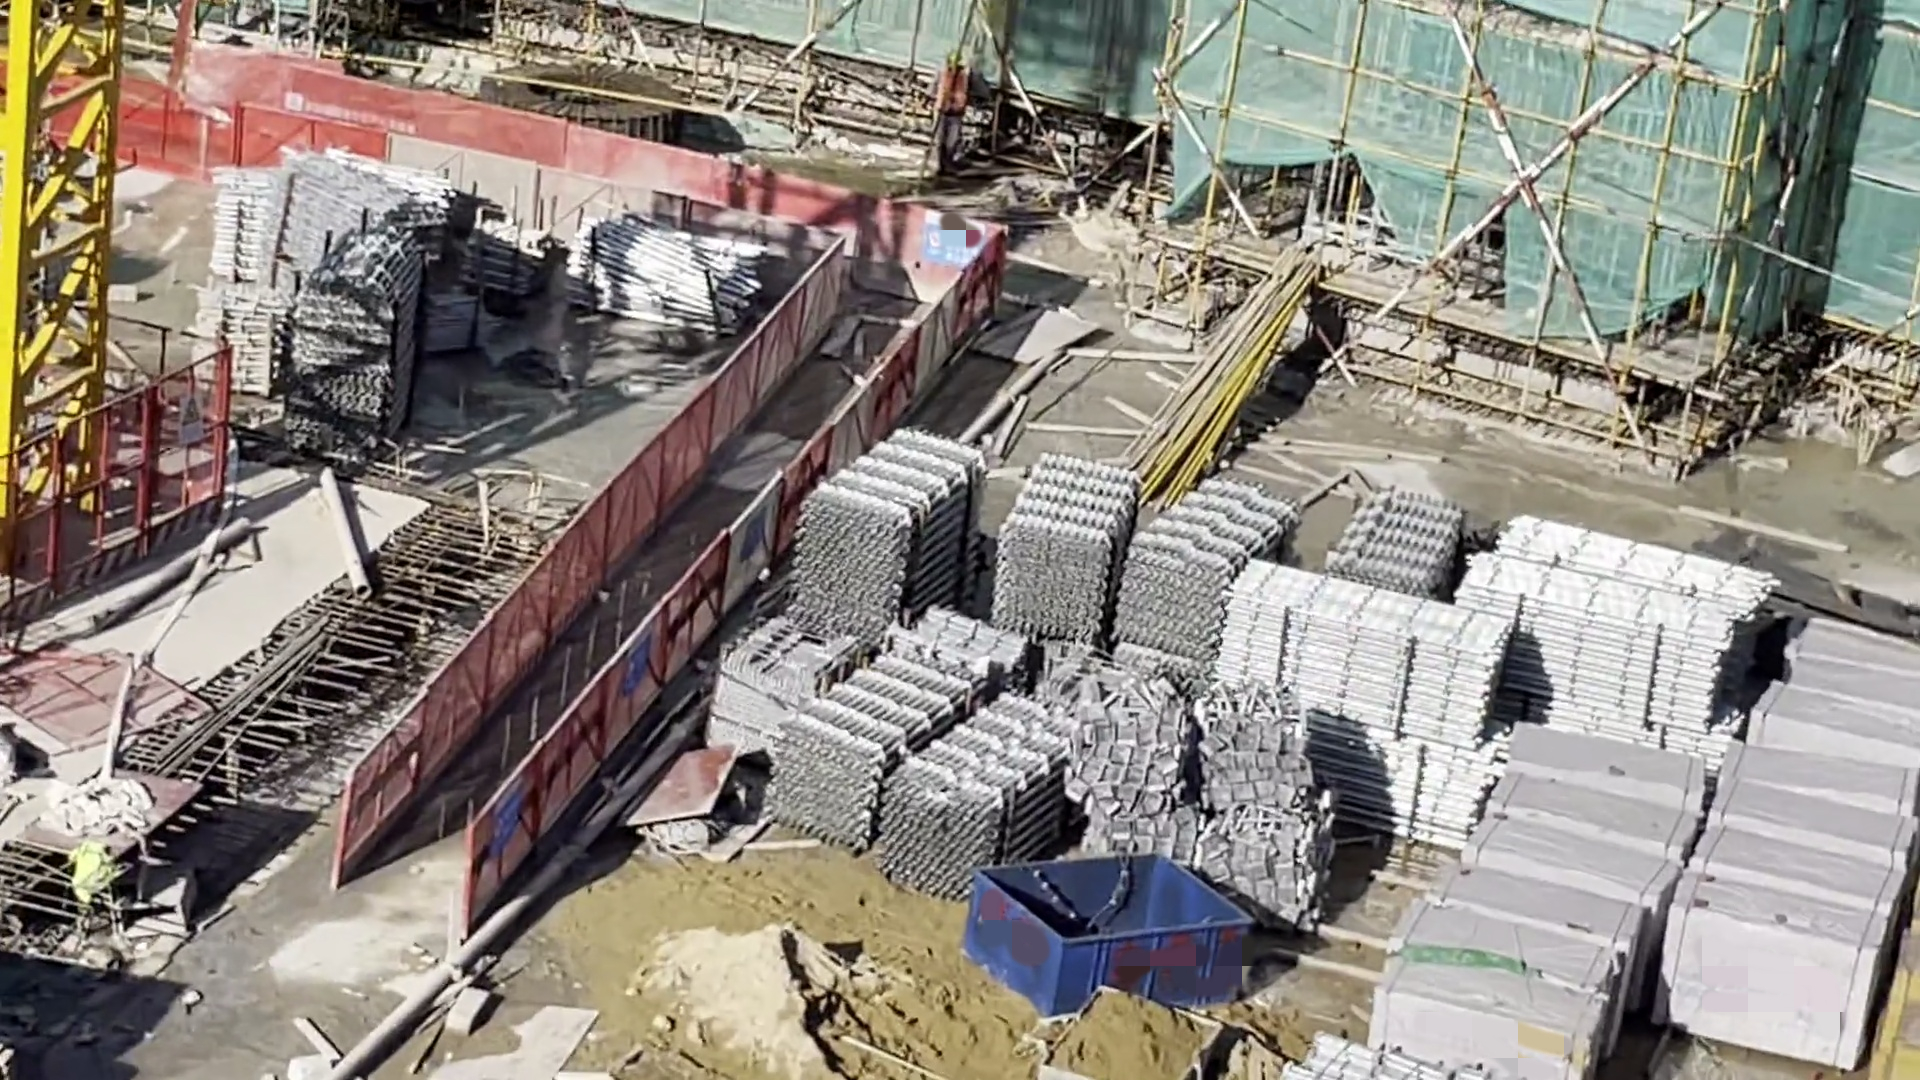fence: (121, 36, 958, 354), (336, 617, 683, 884), (538, 384, 808, 627), (14, 336, 226, 589)
helmet: (948, 53, 964, 72)
hopper: (964, 837, 1256, 1014)
person: (931, 55, 973, 176)
rebar: (134, 616, 331, 806), (1708, 536, 1920, 634)
scaffold: (743, 622, 979, 854), (1483, 506, 1711, 729), (1233, 559, 1509, 716), (764, 456, 976, 646), (179, 237, 408, 387), (1106, 496, 1266, 659), (583, 209, 761, 339), (246, 157, 456, 256), (994, 464, 1104, 629), (1309, 702, 1443, 831), (931, 734, 1048, 857), (706, 612, 796, 752), (1334, 501, 1449, 561), (468, 214, 528, 281)
vest: (941, 74, 969, 131)
